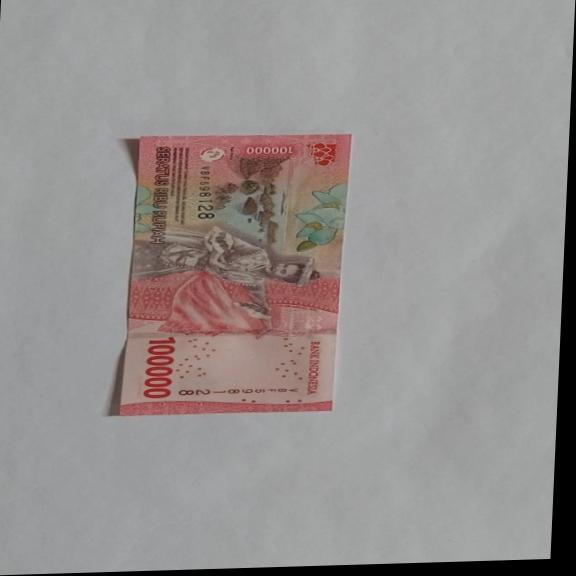Kertas: (114, 130, 351, 418), (141, 336, 177, 400)
